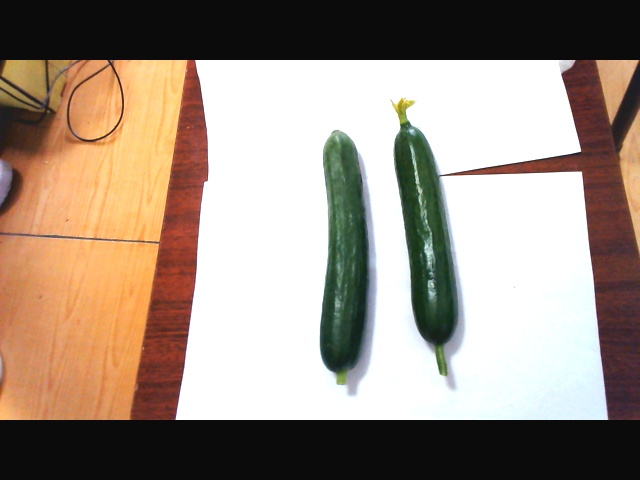cucumber: (394, 95, 458, 372), (314, 131, 370, 385)
